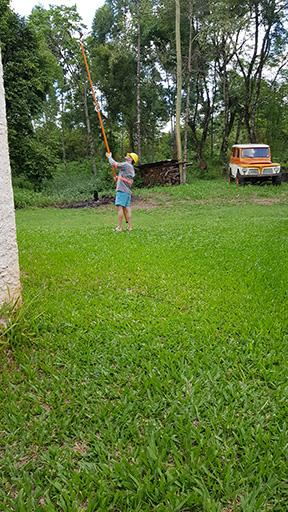Vara_Manobra: (77, 41, 120, 191)
